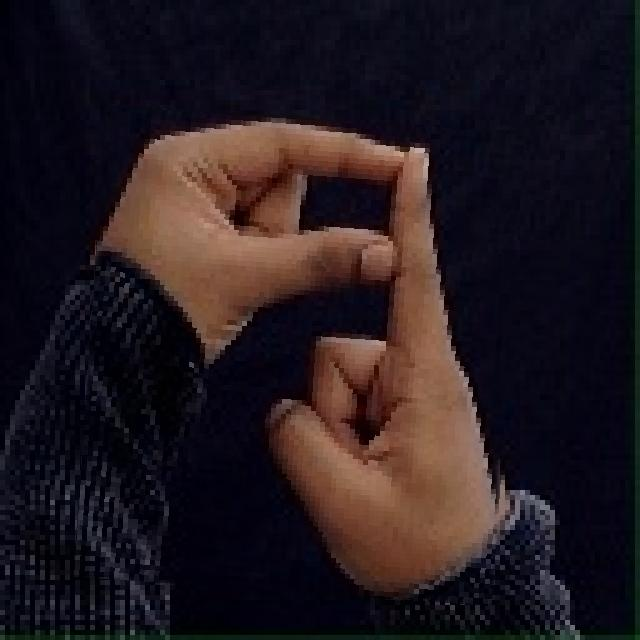P: (81, 111, 517, 599)
